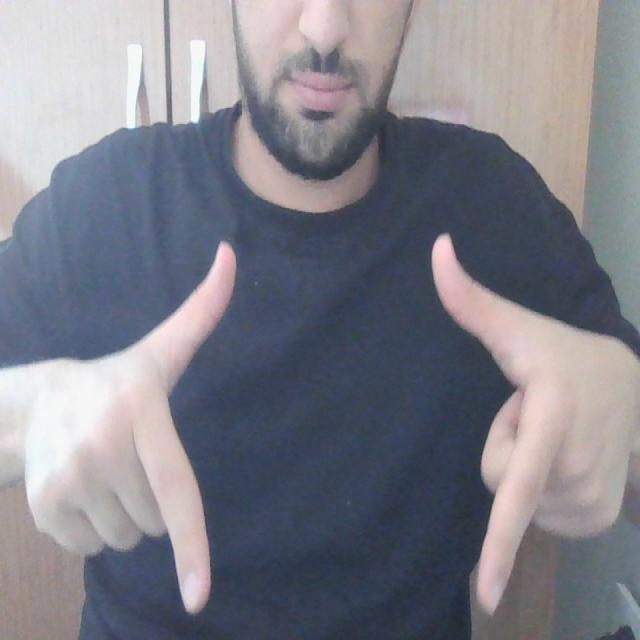Nerede: (134, 224, 570, 623)
